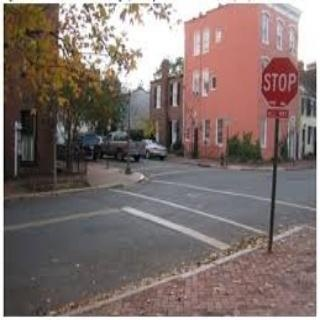sign_stop: (261, 55, 301, 104)
